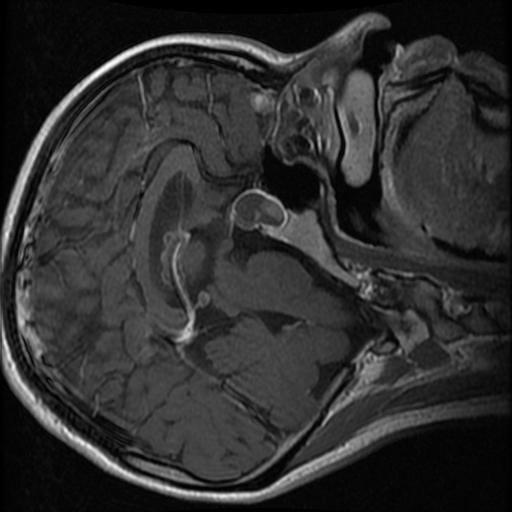pituitary tumour: (231, 193, 282, 231)
